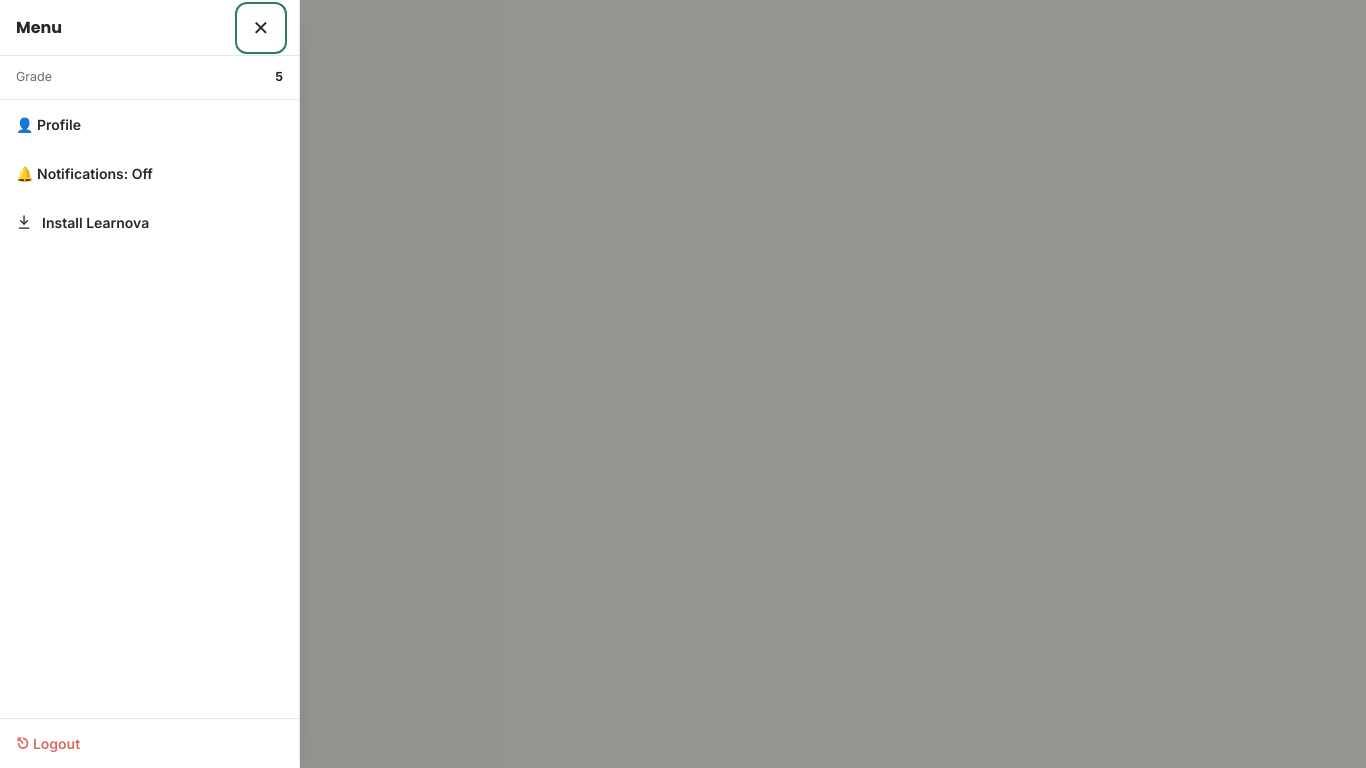
Test: HamburgerDrawer: existing behaviour unchanged › Notifications still surfaces permission errors in place
Click the button "🔔 Notifications: Off". click: (150, 173)
box: x1=0 y1=149 x2=299 y2=198
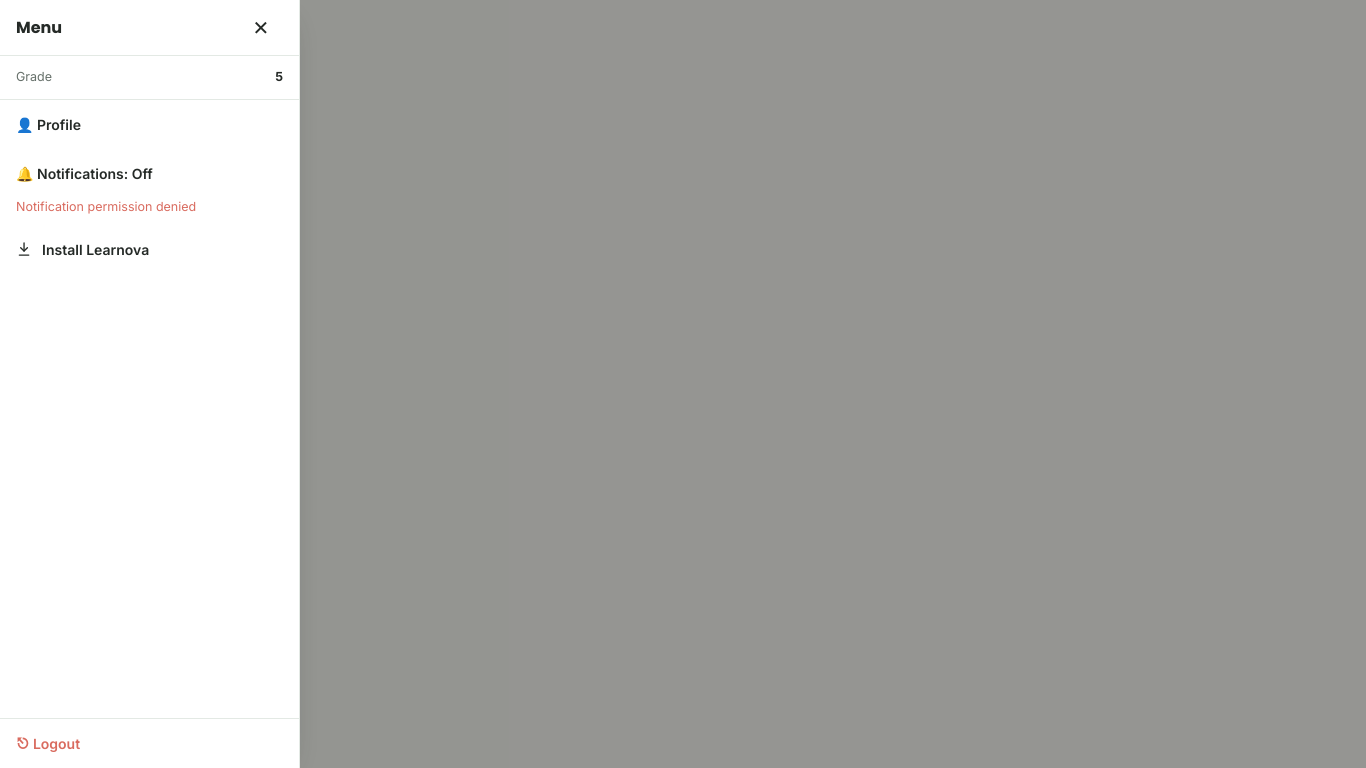
Expected: the number of buttons "Install Learnova" is 1, x1=0 y1=224 x2=299 y2=274
Expected: the text "Notification permission denied" is shown, x1=16 y1=199 x2=196 y2=214
